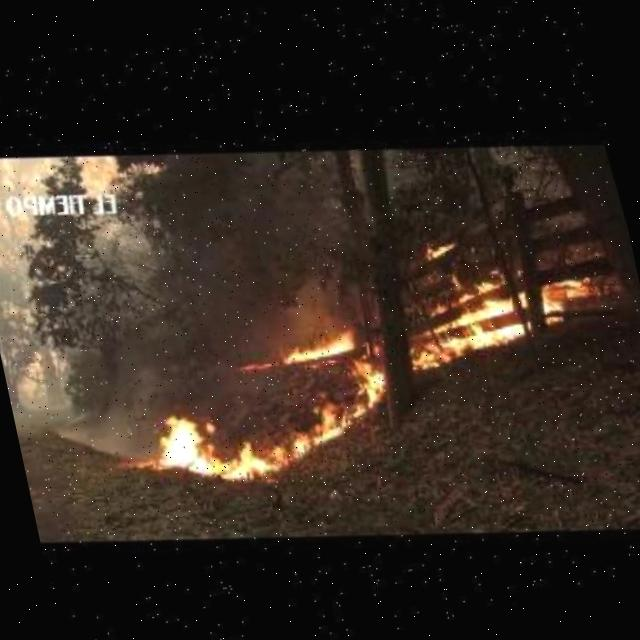fire: (144, 369, 360, 516), (394, 251, 550, 386), (281, 315, 364, 373), (536, 264, 606, 331), (339, 349, 401, 423), (229, 349, 279, 379), (426, 231, 466, 262)
